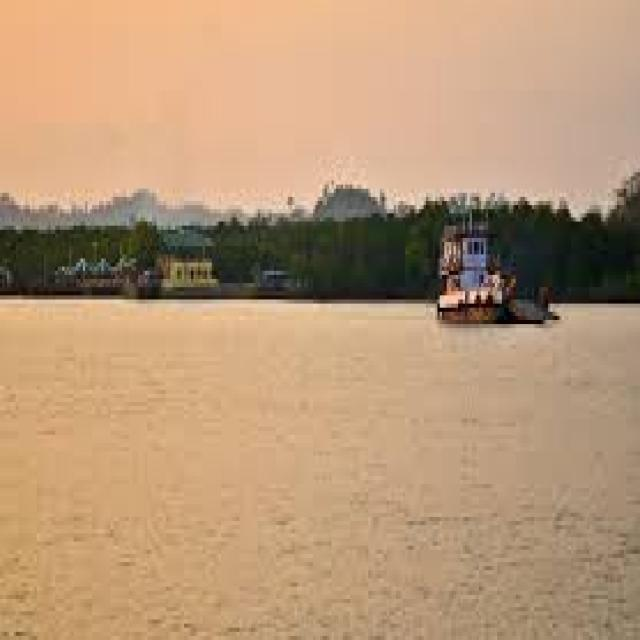cargoship: (414, 154, 559, 342)
